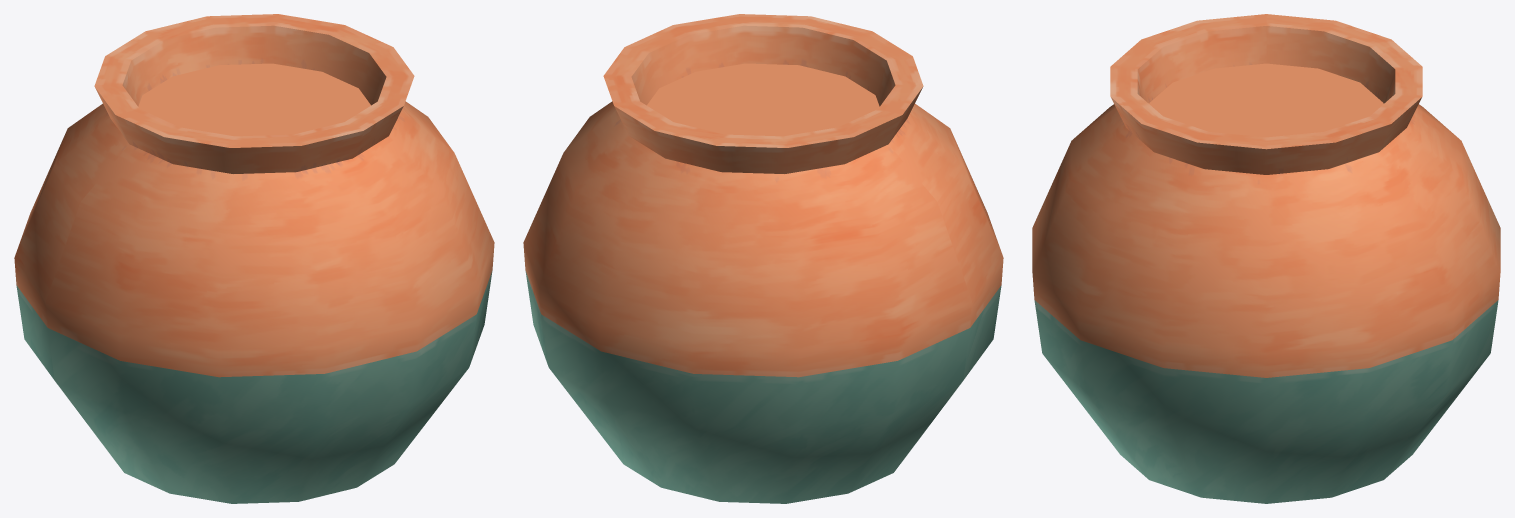
The model's file is pot_round.fbx.
The picture shows the model from 3 angles, left to right: view 1: azimuth 30°, elevation 25°; view 2: azimuth 150°, elevation 25°; view 3: azimuth 270°, elevation 25°; orthographic projection.
Parts seen in each view (by area): view 1: pot_round; view 2: pot_round; view 3: pot_round.
Boxes of the visible parts, x1,y1,x2,y2 form: pot_round: (14, 14, 494, 503); pot_round: (523, 14, 1003, 503); pot_round: (1032, 14, 1500, 503).
Bounding box in the file's own units: 2.4 × 2.08 × 2.34.
1 material, 1 textured.
